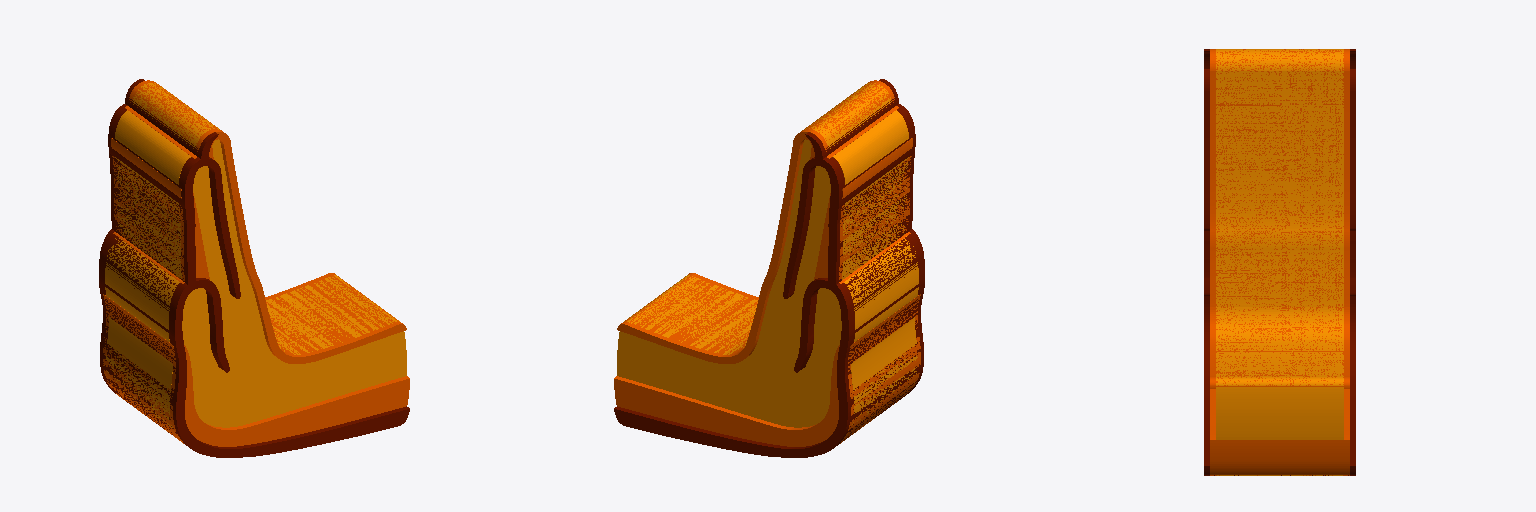
File: U+1FAF7.obj
3 renders of one model, left to right at view 1: azimuth 30°, elevation 25°; view 2: azimuth 150°, elevation 25°; view 3: azimuth 270°, elevation 25°, orthographic.
Visible parts, largest first — view 1: U+1FAF7_layer00_obj00, U+1FAF7_layer02_obj00, U+1FAF7_layer01_obj02, U+1FAF7_layer01_obj00, U+1FAF7_layer01_obj01; view 2: U+1FAF7_layer00_obj00, U+1FAF7_layer02_obj00, U+1FAF7_layer01_obj02, U+1FAF7_layer01_obj00, U+1FAF7_layer01_obj01; view 3: U+1FAF7_layer00_obj00, U+1FAF7_layer01_obj02, U+1FAF7_layer01_obj00, U+1FAF7_layer02_obj00.
Boxes of the visible parts, x1,y1,x2,y2 form: U+1FAF7_layer00_obj00: [105, 83, 406, 427]; U+1FAF7_layer02_obj00: [99, 79, 409, 457]; U+1FAF7_layer01_obj02: [125, 80, 406, 363]; U+1FAF7_layer01_obj00: [103, 294, 409, 446]; U+1FAF7_layer01_obj01: [111, 138, 209, 283]; U+1FAF7_layer00_obj00: [617, 83, 918, 427]; U+1FAF7_layer02_obj00: [614, 79, 924, 457]; U+1FAF7_layer01_obj02: [617, 80, 898, 363]; U+1FAF7_layer01_obj00: [614, 294, 920, 446]; U+1FAF7_layer01_obj01: [814, 138, 912, 283]; U+1FAF7_layer00_obj00: [1216, 49, 1343, 475]; U+1FAF7_layer01_obj02: [1210, 49, 1349, 388]; U+1FAF7_layer01_obj00: [1210, 389, 1349, 475]; U+1FAF7_layer02_obj00: [1204, 49, 1355, 475].
Size of the model in its own units: 0.2163 by 0.2914 by 0.12.